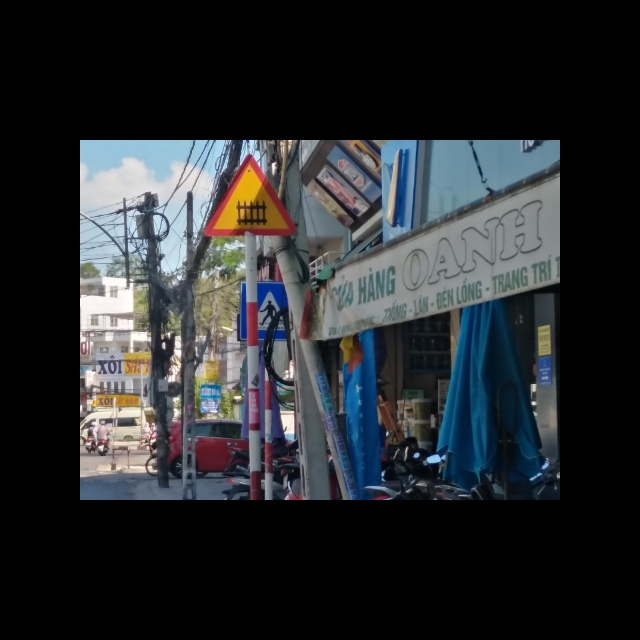Giao nhau với đường sắt có rào chắn: (200, 153, 297, 237)
